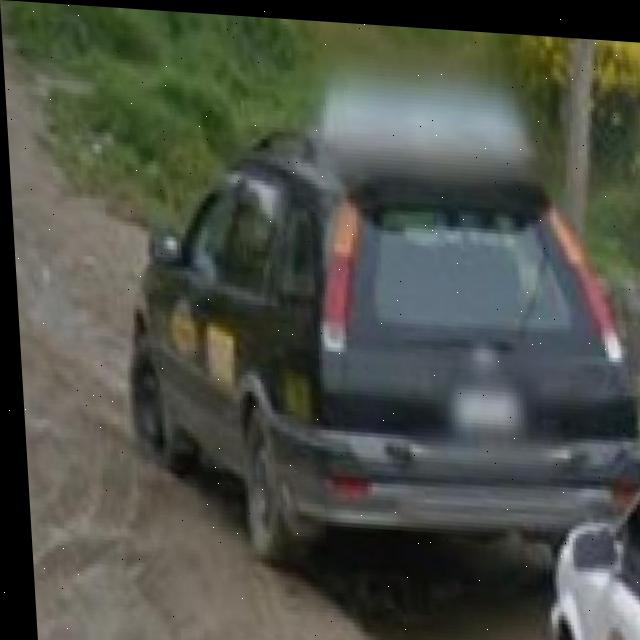vehicle: (117, 93, 640, 571)
